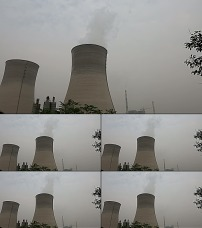dust: (64, 9, 124, 49), (28, 119, 68, 142), (30, 175, 62, 198), (135, 174, 161, 197), (136, 118, 160, 139)
